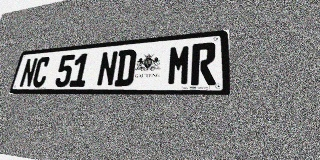1: (69, 53, 91, 87)
5: (54, 54, 75, 87)
C: (31, 56, 51, 87)
D: (114, 49, 137, 86)
M: (167, 44, 191, 86)
N: (96, 51, 118, 87), (19, 58, 38, 88)
R: (191, 42, 216, 85)
